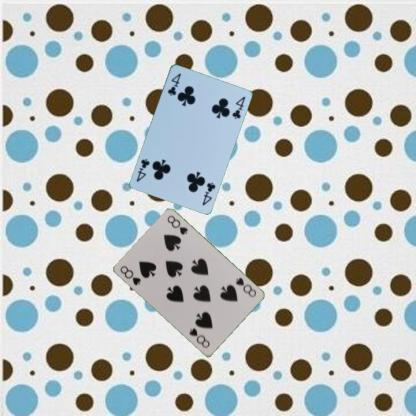4c: (199, 179, 217, 206), (165, 70, 182, 98)
8s: (233, 275, 258, 299), (117, 264, 142, 286)
